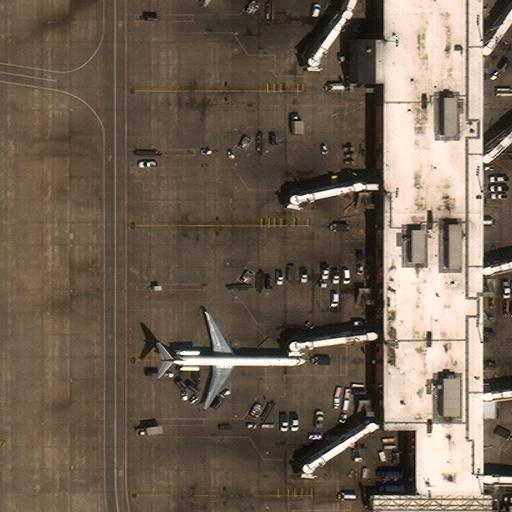Medium Civil Transport: (159, 312, 306, 407)
